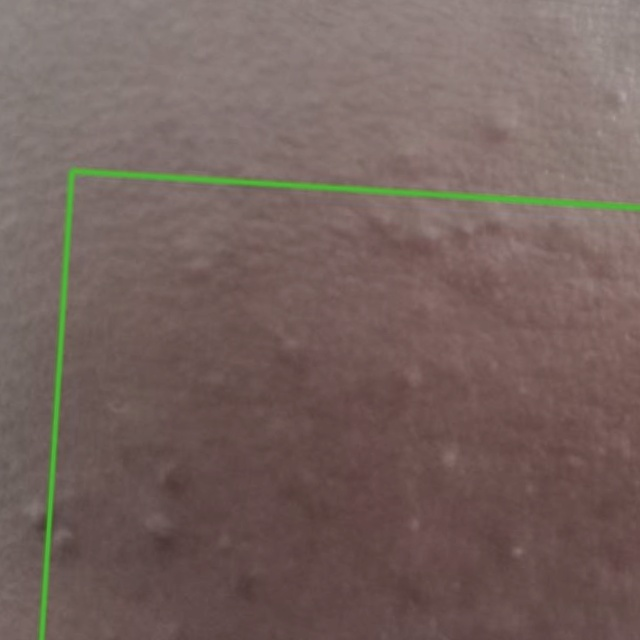Eczema: (41, 170, 639, 639)
